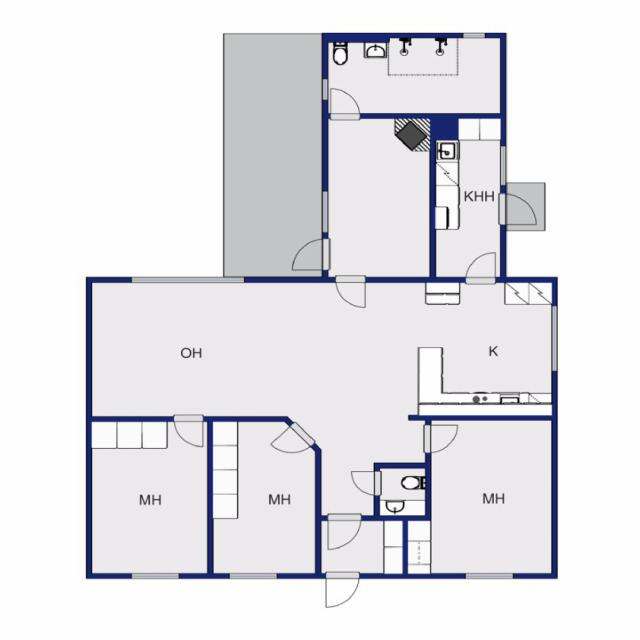door: (270, 423, 314, 465), (325, 573, 359, 610), (500, 194, 538, 224), (329, 516, 361, 551), (291, 240, 328, 269), (330, 85, 360, 118), (336, 277, 365, 310), (174, 416, 203, 449), (466, 250, 495, 282), (426, 425, 460, 452), (349, 472, 379, 495)
